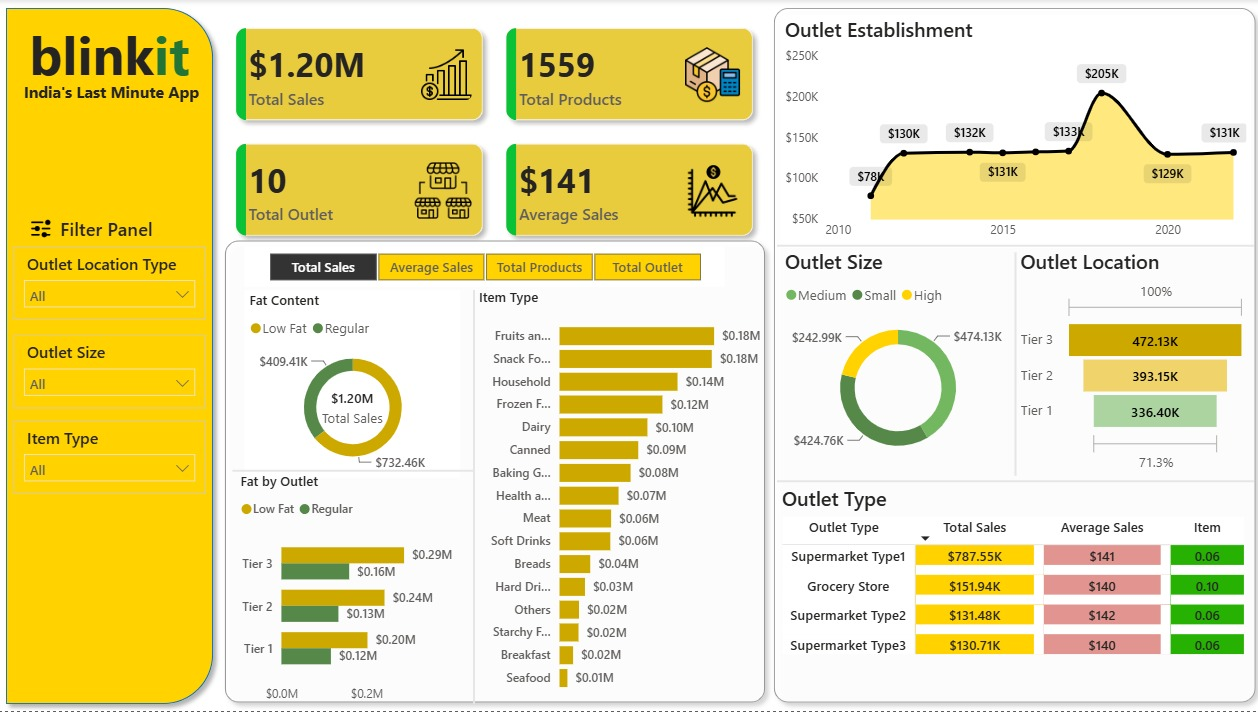

What the dashboard file says about the page in this screenshot:
{"tool":"powerbi","page":{"name":"Page 1","canvas":[1280,720],"ordinal":0},"visuals":[{"type":"shape","box":[0,0,227.1,720.8],"z":0},{"type":"textbox","box":[18.9,13.2,190.9,94.5],"z":1000},{"type":"textbox","box":[11.3,77.5,209.8,41.6],"z":2000},{"type":"cardVisual","fields":{"Data":["blinkit_cleaned.Total Sales","blinkit_cleaned.Total Products","blinkit_cleaned.Total Outlet","blinkit_cleaned.Average Sales"]},"box":[212,0,581.5,269.5],"z":3000},{"type":"shape","box":[221.1,234.7,563.3,484.5],"z":4000},{"type":"slicer","fields":{"Values":["Metrics.Metrics"]},"box":[249.8,249.8,484.5,40.9],"z":5000},{"type":"donutChart","title":"Fat Content","fields":{"Y":["blinkit_cleaned.Total Sales"],"Category":["blinkit_cleaned.Item Fat Content"]},"box":[249.8,293.8,218,189.3],"z":6000},{"type":"cardVisual","fields":{"Data":["blinkit_cleaned.Total Sales"]},"box":[286.2,375.5,145.4,74.2],"z":7000},{"type":"clusteredBarChart","title":" Fat by Outlet ","fields":{"Y":["blinkit_cleaned.Total Sales"],"Category":["blinkit_cleaned.Outlet Location Type"],"Series":["blinkit_cleaned.Item Fat Content"]},"box":[240.8,477,240.8,242.3],"z":8000},{"type":"shape","box":[237.7,439.1,243.8,74.2],"z":9000},{"type":"shape","box":[371,293.8,221.1,417.9],"z":10000},{"type":"barChart","title":"Item Type ","fields":{"Y":["blinkit_cleaned.Total Sales"],"Category":["blinkit_cleaned.Item Type"]},"box":[481.5,290.7,293.8,417.9],"z":11000},{"type":"shape","box":[775.3,0,504.2,719.2],"z":12000},{"type":"lineChart","title":"Outlet Establishment ","fields":{"Y":["blinkit_cleaned.Total Sales"],"Category":["blinkit_cleaned.Outlet Establishment Year"]},"box":[790.4,16.7,475.5,234.7],"z":13000},{"type":"shape","box":[787.4,212,481.5,74.2],"z":14000},{"type":"donutChart","title":"Outlet Size","fields":{"Y":["blinkit_cleaned.Total Sales"],"Category":["blinkit_cleaned.Outlet Size"]},"box":[790.4,251.4,237.7,225.6],"z":15000},{"type":"shape","box":[917.6,255.9,221.1,225.6],"z":16000},{"type":"funnel","title":" Outlet Location ","fields":{"Y":["Sum(blinkit_cleaned.Sales)"],"Category":["blinkit_cleaned.Outlet Location Type"]},"box":[1028.1,251.4,237.7,230.2],"z":17000},{"type":"shape","box":[787.4,449.7,481.5,74.2],"z":18000},{"type":"pivotTable","title":"Outlet Type","fields":{"Rows":["blinkit_cleaned.Outlet Type"],"Values":["blinkit_cleaned.Total Sales","blinkit_cleaned.Average Sales","Avg(blinkit_cleaned.Item Visibility)"]},"box":[787.4,490.6,478.5,221.1],"z":19000},{"type":"slicer","fields":{"Values":["blinkit_cleaned.Outlet Location Type"]},"box":[16.7,249.8,193.8,74.2],"z":20000},{"type":"slicer","fields":{"Values":["blinkit_cleaned.Outlet Size"]},"box":[16.7,339.2,193.8,74.2],"z":21000},{"type":"slicer","fields":{"Values":["blinkit_cleaned.Item Type"]},"box":[16.7,425.5,193.8,74.2],"z":22000},{"type":"textbox","box":[10.6,213.5,199.9,36.3],"z":24000},{"type":"image","box":[18.2,221.1,51.5,21.2],"z":24001}]}

Visuals, with their boxes in screenshot pixels (x1, y1, x2, y2), scaled from the page's 1280x720 canvas onto the 1258x712 screenshot:
shape: [left=0, top=0, right=223, bottom=711]
textbox: [left=19, top=13, right=206, bottom=107]
textbox: [left=11, top=77, right=217, bottom=118]
cardVisual - blinkit_cleaned.Total Sales x blinkit_cleaned.Total Products: [left=208, top=0, right=780, bottom=267]
shape: [left=217, top=232, right=771, bottom=711]
slicer - Metrics.Metrics: [left=246, top=247, right=722, bottom=287]
"Fat Content" donutChart: [left=246, top=291, right=460, bottom=478]
cardVisual - blinkit_cleaned.Total Sales: [left=281, top=371, right=424, bottom=445]
" Fat by Outlet " clusteredBarChart: [left=237, top=472, right=473, bottom=711]
shape: [left=234, top=434, right=473, bottom=508]
shape: [left=365, top=291, right=582, bottom=704]
"Item Type " barChart: [left=473, top=287, right=762, bottom=701]
shape: [left=762, top=0, right=1257, bottom=711]
"Outlet Establishment " lineChart: [left=777, top=17, right=1244, bottom=249]
shape: [left=774, top=210, right=1247, bottom=283]
"Outlet Size" donutChart: [left=777, top=249, right=1010, bottom=472]
shape: [left=902, top=253, right=1119, bottom=476]
" Outlet Location " funnel: [left=1010, top=249, right=1244, bottom=476]
shape: [left=774, top=445, right=1247, bottom=518]
"Outlet Type" pivotTable: [left=774, top=485, right=1244, bottom=704]
slicer - blinkit_cleaned.Outlet Location Type: [left=16, top=247, right=207, bottom=320]
slicer - blinkit_cleaned.Outlet Size: [left=16, top=335, right=207, bottom=409]
slicer - blinkit_cleaned.Item Type: [left=16, top=421, right=207, bottom=494]
textbox: [left=10, top=211, right=207, bottom=247]
image: [left=18, top=219, right=69, bottom=240]
